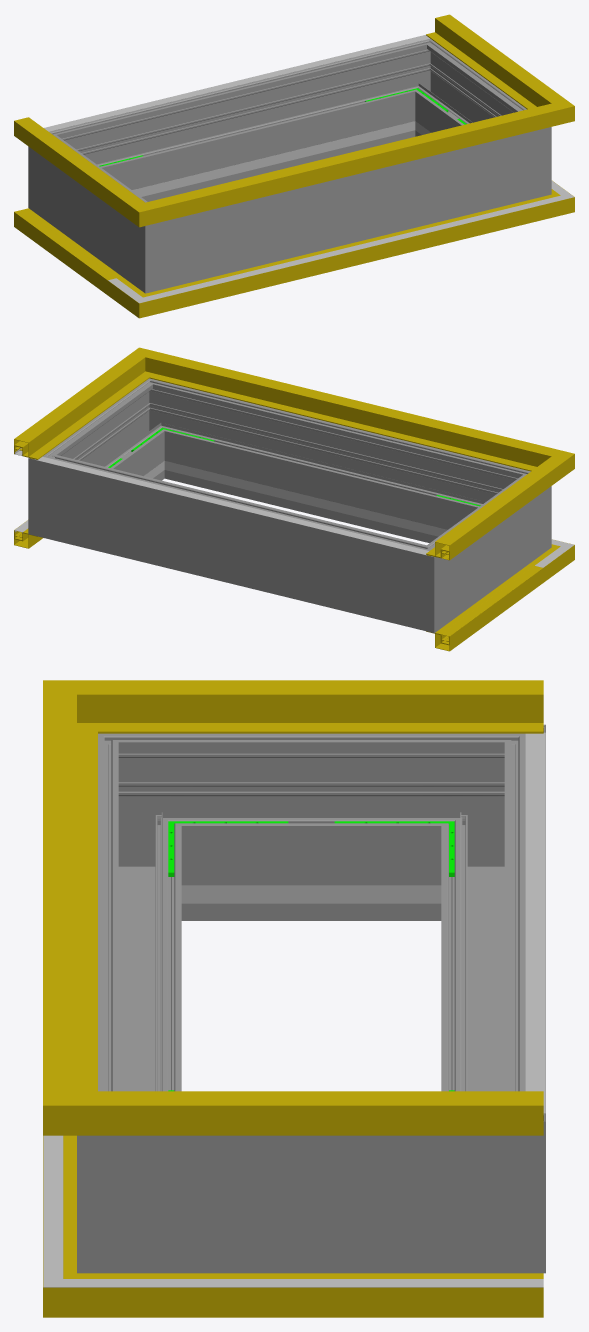
3 renders of one model, top to bottom at view 1: azimuth 30°, elevation 25°; view 2: azimuth 150°, elevation 25°; view 3: azimuth 270°, elevation 25°, orthographic. The views are drawn at different scales.
Parts seen in each view (by area): view 1: 3DGeom-277, 3DGeom-299, 3DGeom-123, 3DGeom-11, 3DGeom-271, 3DGeom-285, 3DGeom-291, 3DGeom-128, 3DGeom-269, 3DGeom-298, 3DGeom-279, 3DGeom-118 (+12 smaller); view 2: 3DGeom-299, 3DGeom-277, 3DGeom-123, 3DGeom-279, 3DGeom-285, 3DGeom-291, 3DGeom-128, 3DGeom-298, 3DGeom-269, 3DGeom-118, 3DGeom-271, 3DGeom-6 (+7 smaller); view 3: 3DGeom-269, 3DGeom-298, 3DGeom-118, 3DGeom-277, 3DGeom-299, 3DGeom-285, 3DGeom-291, 3DGeom-123, 3DGeom-128, 3DGeom-279, 3DGeom-271, 3DGeom-16 (+10 smaller).
Part boxes in pixels (<box>): 3DGeom-277: <box>88,50,406,201</box>; 3DGeom-299: <box>200,140,497,280</box>; 3DGeom-123: <box>185,113,520,213</box>; 3DGeom-11: <box>185,204,520,304</box>; 3DGeom-271: <box>114,190,199,293</box>; 3DGeom-285: <box>385,38,456,138</box>; 3DGeom-291: <box>497,98,551,207</box>; 3DGeom-128: <box>426,14,542,103</box>; 3DGeom-269: <box>59,150,131,270</box>; 3DGeom-298: <box>420,58,511,135</box>; 3DGeom-279: <box>28,122,108,230</box>; 3DGeom-118: <box>14,117,122,203</box>; 3DGeom-299: <box>173,389,491,542</box>; 3DGeom-277: <box>82,464,389,619</box>; 3DGeom-123: <box>180,361,519,465</box>; 3DGeom-279: <box>380,530,465,633</box>; 3DGeom-285: <box>28,437,92,547</box>; 3DGeom-291: <box>123,378,194,480</box>; 3DGeom-128: <box>14,370,131,459</box>; 3DGeom-298: <box>68,397,159,479</box>; 3DGeom-269: <box>448,490,520,609</box>; 3DGeom-118: <box>426,473,543,560</box>; 3DGeom-271: <box>471,462,551,569</box>; 3DGeom-6: <box>426,564,543,651</box>; 3DGeom-269: <box>202,733,420,920</box>; 3DGeom-298: <box>202,1135,420,1273</box>; 3DGeom-118: <box>168,680,543,733</box>; 3DGeom-277: <box>441,778,545,1091</box>; 3DGeom-299: <box>98,778,181,1091</box>; 3DGeom-285: <box>420,1068,545,1273</box>; 3DGeom-291: <box>77,1068,202,1273</box>; 3DGeom-123: <box>43,733,97,1080</box>; 3DGeom-128: <box>168,1091,543,1135</box>; 3DGeom-279: <box>420,724,545,920</box>; 3DGeom-271: <box>98,733,202,920</box>; 3DGeom-16: <box>168,1273,543,1317</box>.
Size of the model in its own units: 1.22 by 0.2836 by 0.6096.
